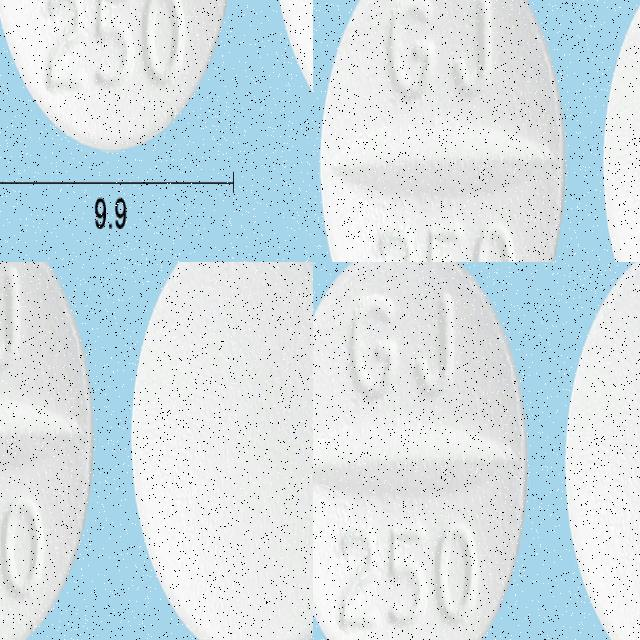Newloxacin Tab: (313, 262, 526, 640), (563, 262, 640, 640)
Piclo Tab: (0, 0, 274, 144)
Qsymia Cap-15mg: (71, 262, 313, 415), (0, 460, 189, 640)
